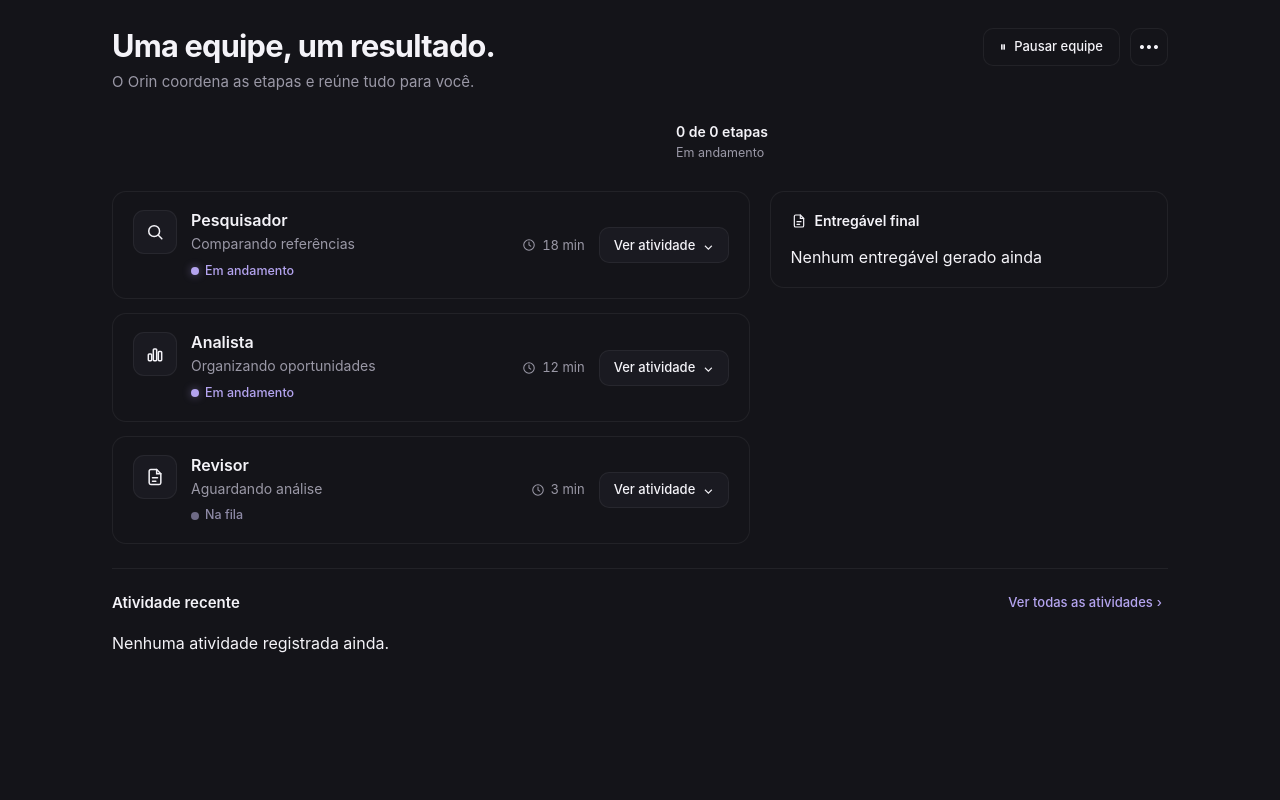
Test: TeamActivityView (ref-10.png) › renderiza os especialistas fornecidos via prop agents e permite expandir/recolher "Ver atividade ⌄"
expect the element with test id "team-agents-list" is shown: met, box [112,191,750,544]
expect the element with test id "team-agent-card-pesquisador" shows "Pesquisador": met, box [191,210,288,230]
Click the button with test id "team-agent-toggle-pesquisador": (664, 245) [599,227,728,263]
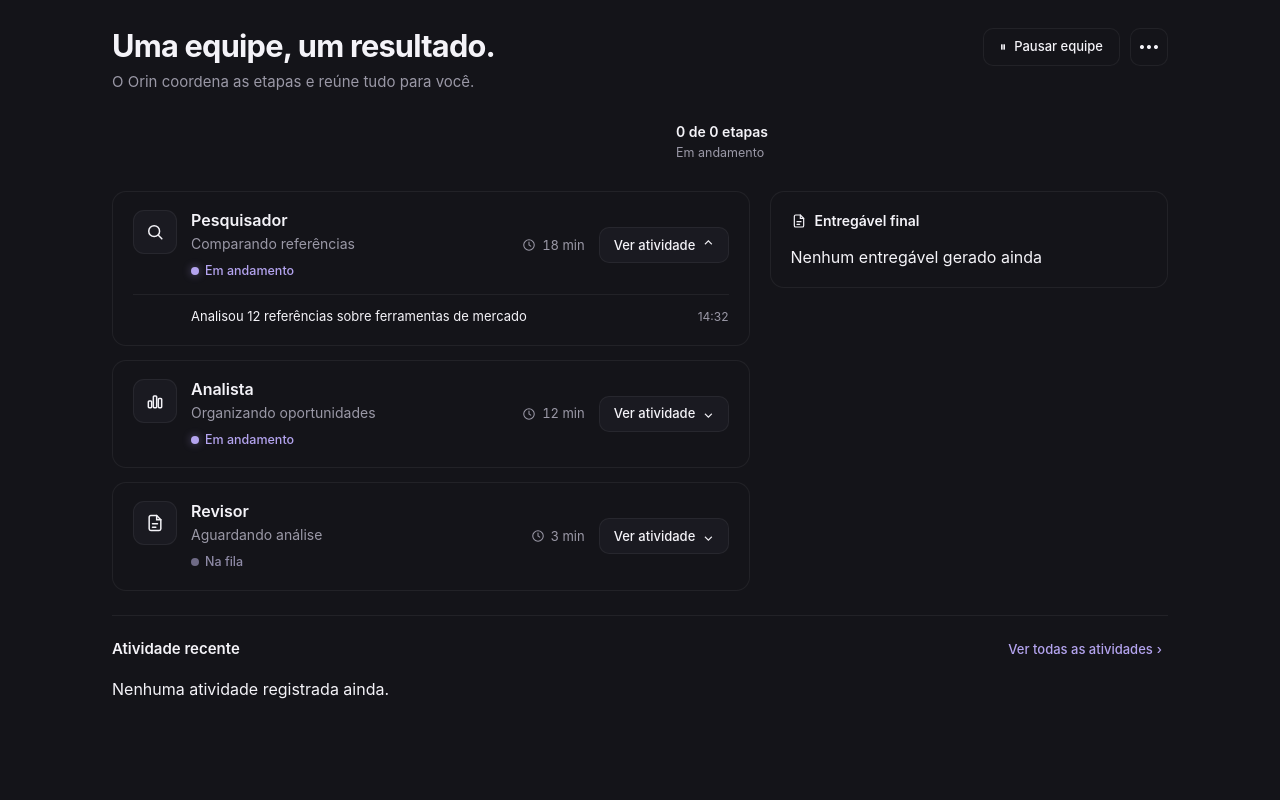
expect the button with test id "team-agent-toggle-pesquisador" is expanded: met
expect the list with test id "team-agent-events-pesquisador" is shown: met, box [133,294,728,327]
expect the list with test id "team-agent-events-pesquisador" shows "referências": met, box [191,308,527,324]
Click the button with test id "team-agent-toggle-pesquisador": (664, 245) [599,227,728,263]
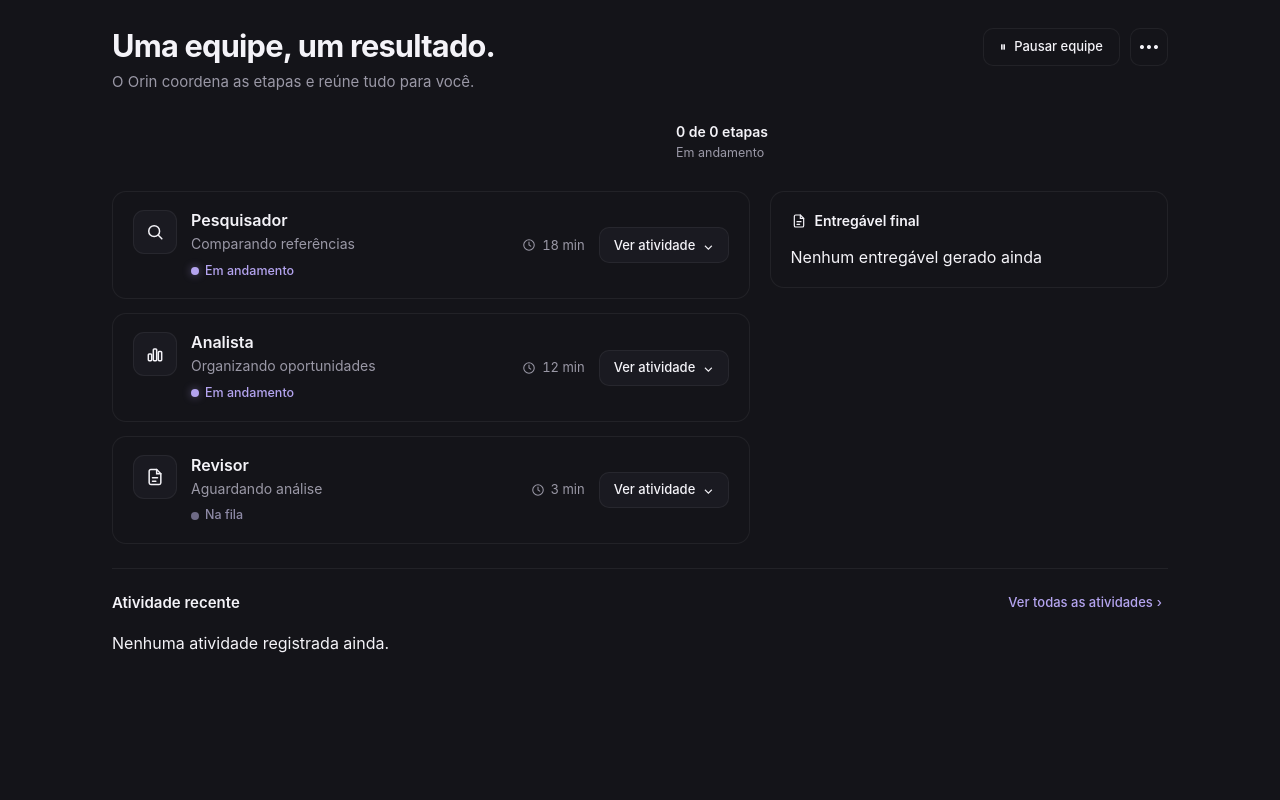
expect the button with test id "team-agent-toggle-pesquisador" is collapsed: met, box [599,227,728,263]
expect the list with test id "team-agent-events-pesquisador" is gone: met
